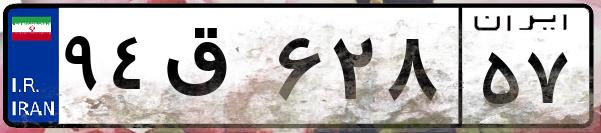2: (330, 28, 385, 110)
4: (110, 28, 158, 98)
5: (475, 38, 525, 113)
6: (270, 28, 330, 110)
7: (525, 38, 570, 115)
8: (385, 28, 445, 110)
9: (57, 26, 110, 100)
ق: (158, 20, 270, 120)
